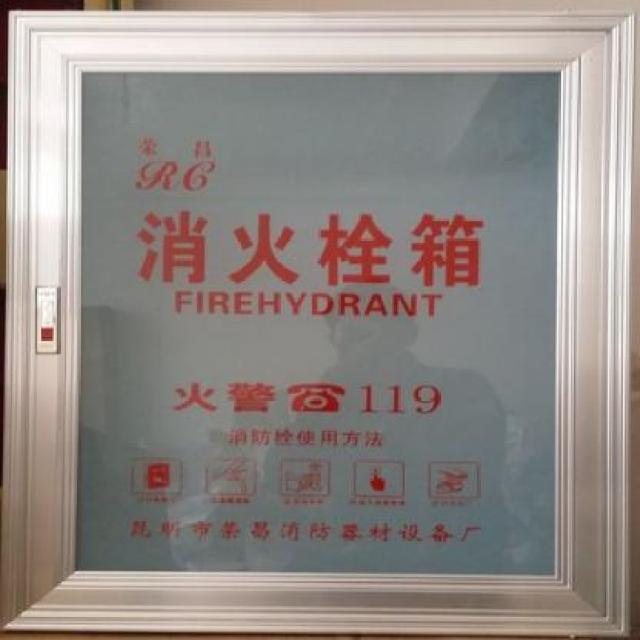firehydrant: (2, 2, 639, 639)
